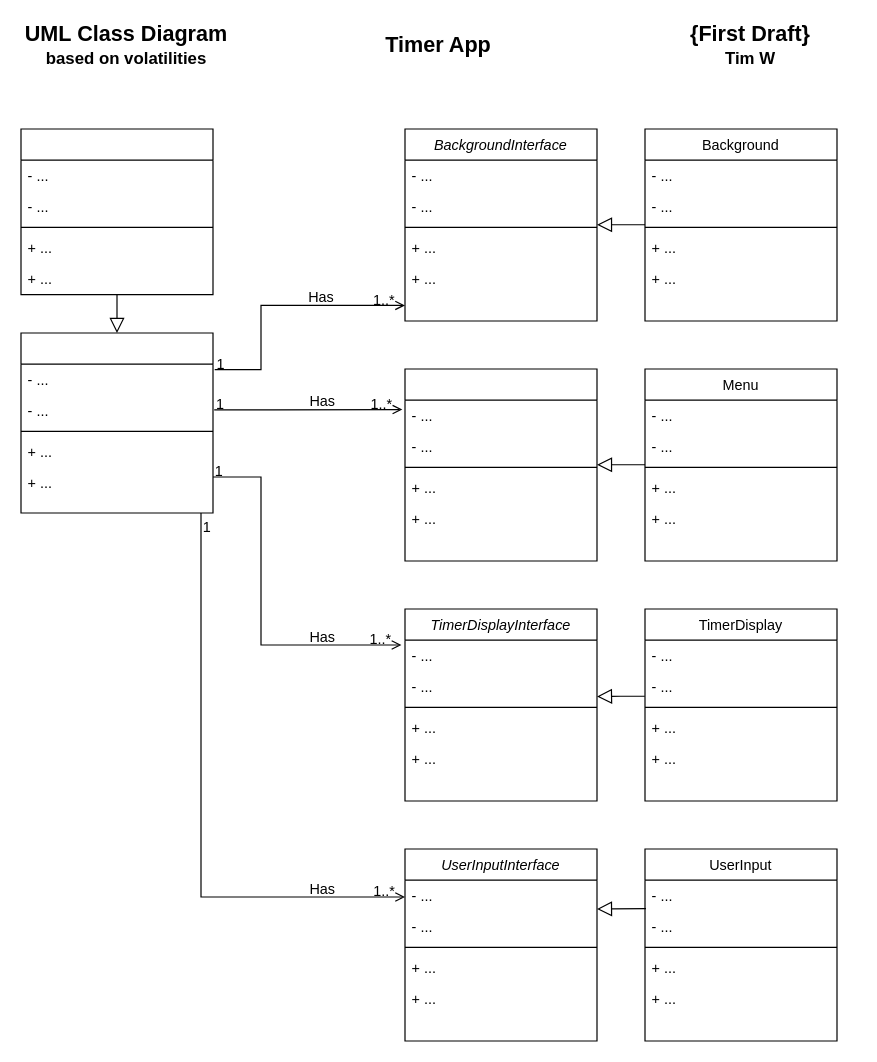
Image size: 877x1062. Some labels were removed from this diagram. Here are the shapes that lost their labels. From the top down, the box of each, then its label:
(20, 128, 213, 295): GUI
(20, 332, 213, 513): GUIinterface
(404, 368, 597, 561): MenuInterface
